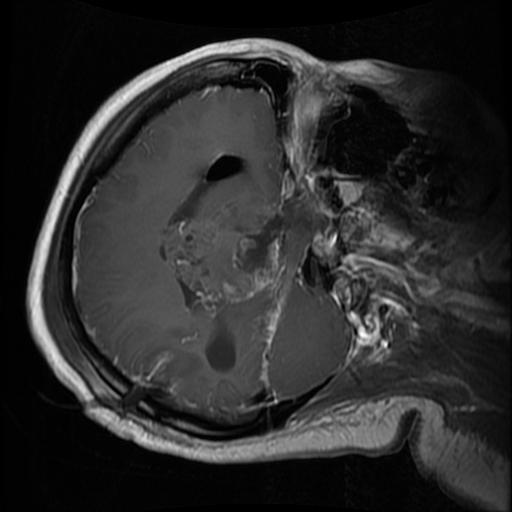glioma: (158, 155, 285, 375)
